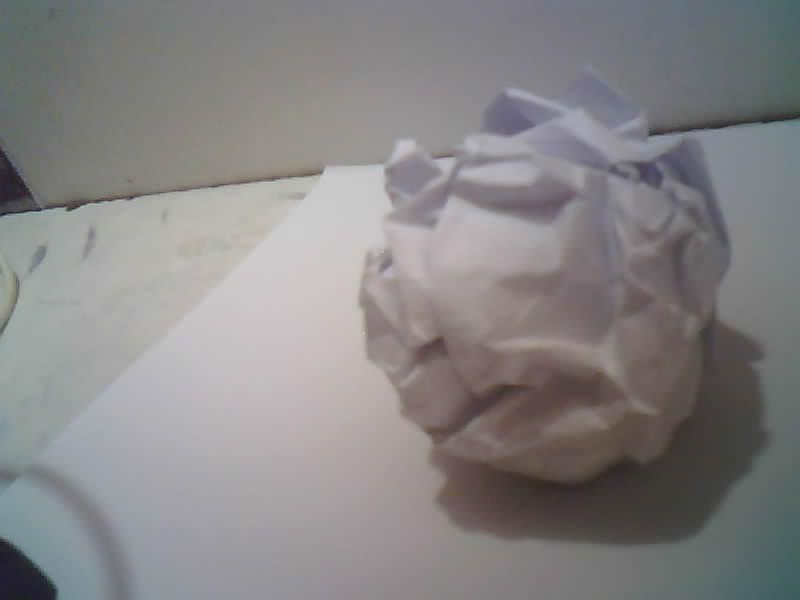biodegradable: (359, 71, 730, 482)
